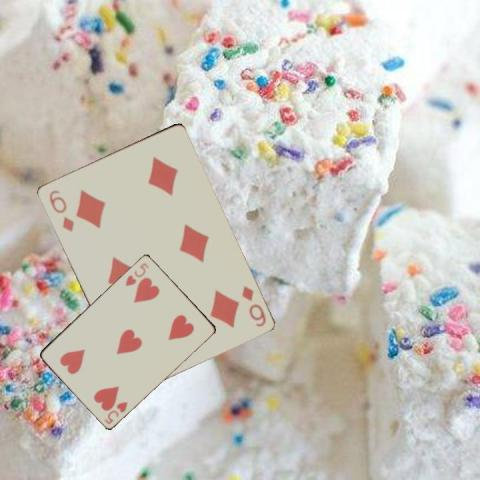5h: (122, 260, 150, 288), (102, 398, 130, 425)
6d: (46, 187, 76, 233), (238, 282, 267, 329)
